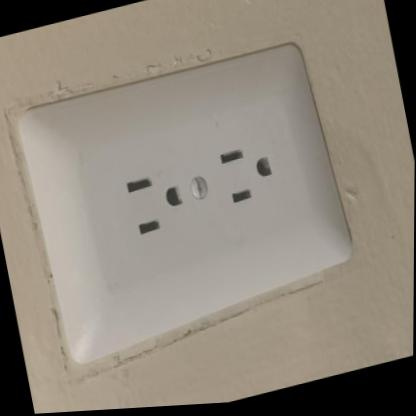OUTLET: (7, 27, 363, 366)
